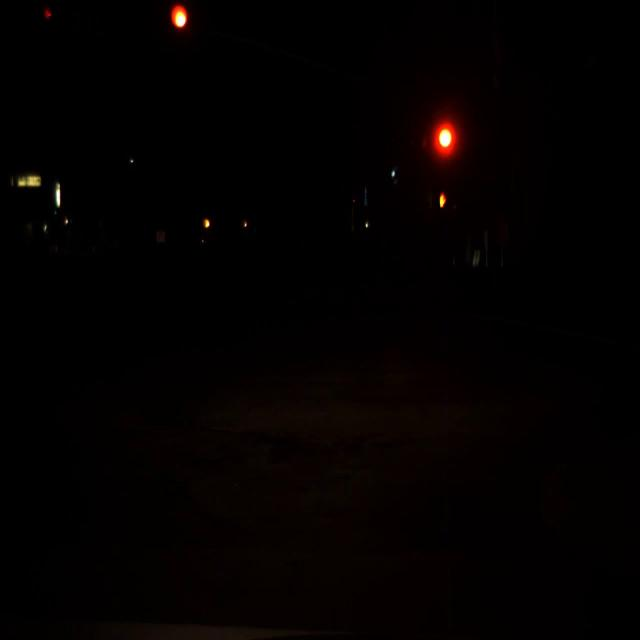stop: (434, 125, 454, 177), (172, 6, 190, 54)
stop left: (44, 7, 52, 33)
stop left traffic light: (44, 7, 52, 33)
stop traffic light: (434, 125, 454, 177), (172, 6, 190, 54)
